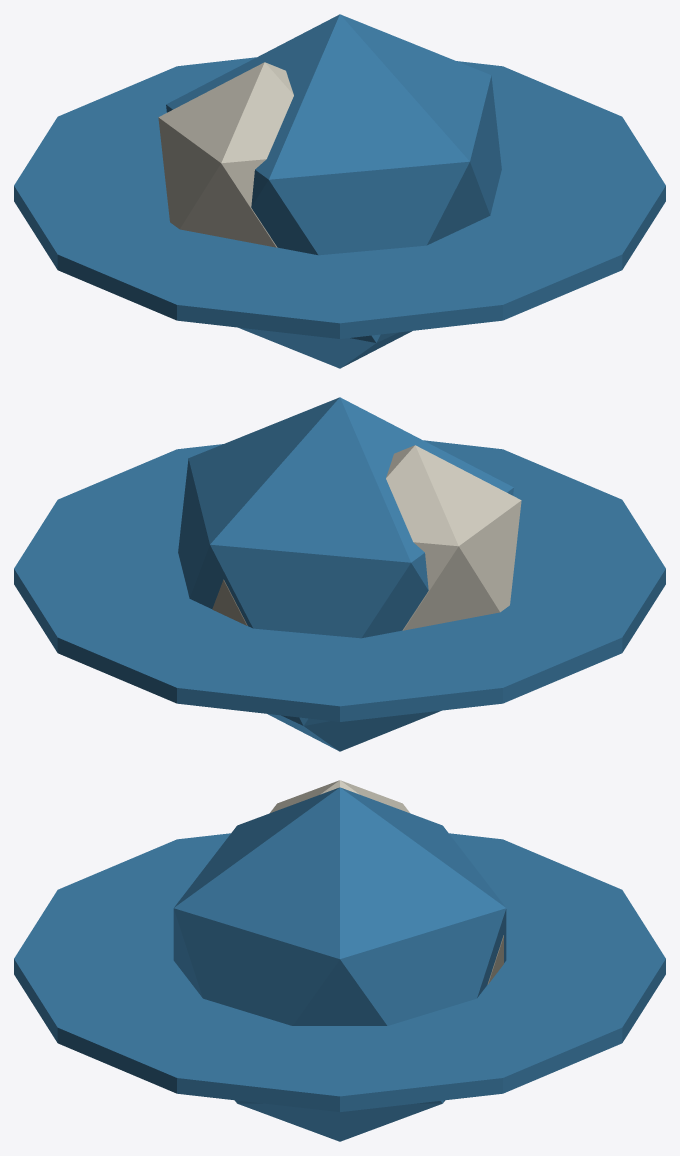
File: landscape.reef-rocks.glb
The picture shows the model from 3 angles, top to bottom: view 1: azimuth 30°, elevation 25°; view 2: azimuth 150°, elevation 25°; view 3: azimuth 270°, elevation 25°; orthographic projection.
Visible parts, largest first — view 1: landscape.reef-rocks; view 2: landscape.reef-rocks; view 3: landscape.reef-rocks.
Part boxes in pixels (left/top/right/bottom): landscape.reef-rocks: left=14, top=14, right=665, bottom=368; landscape.reef-rocks: left=14, top=397, right=665, bottom=751; landscape.reef-rocks: left=14, top=780, right=665, bottom=1141.
Size of the model in its own units: 3 by 1.8 by 3.
